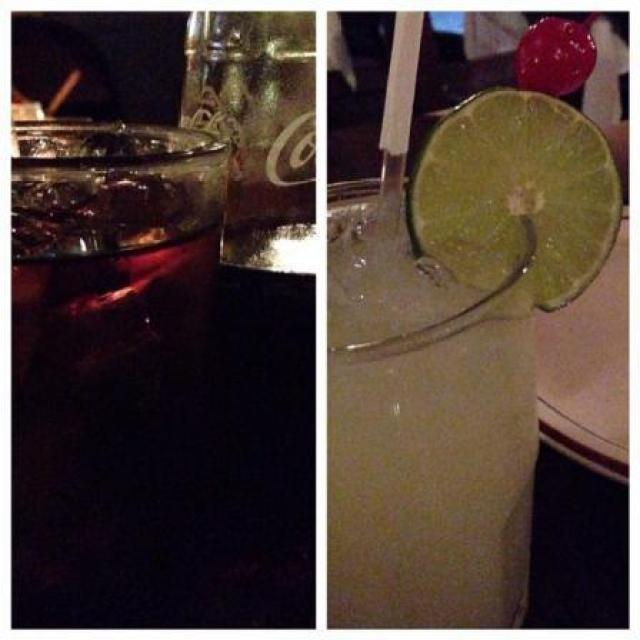Juice: (0, 166, 223, 640), (322, 202, 539, 634)
